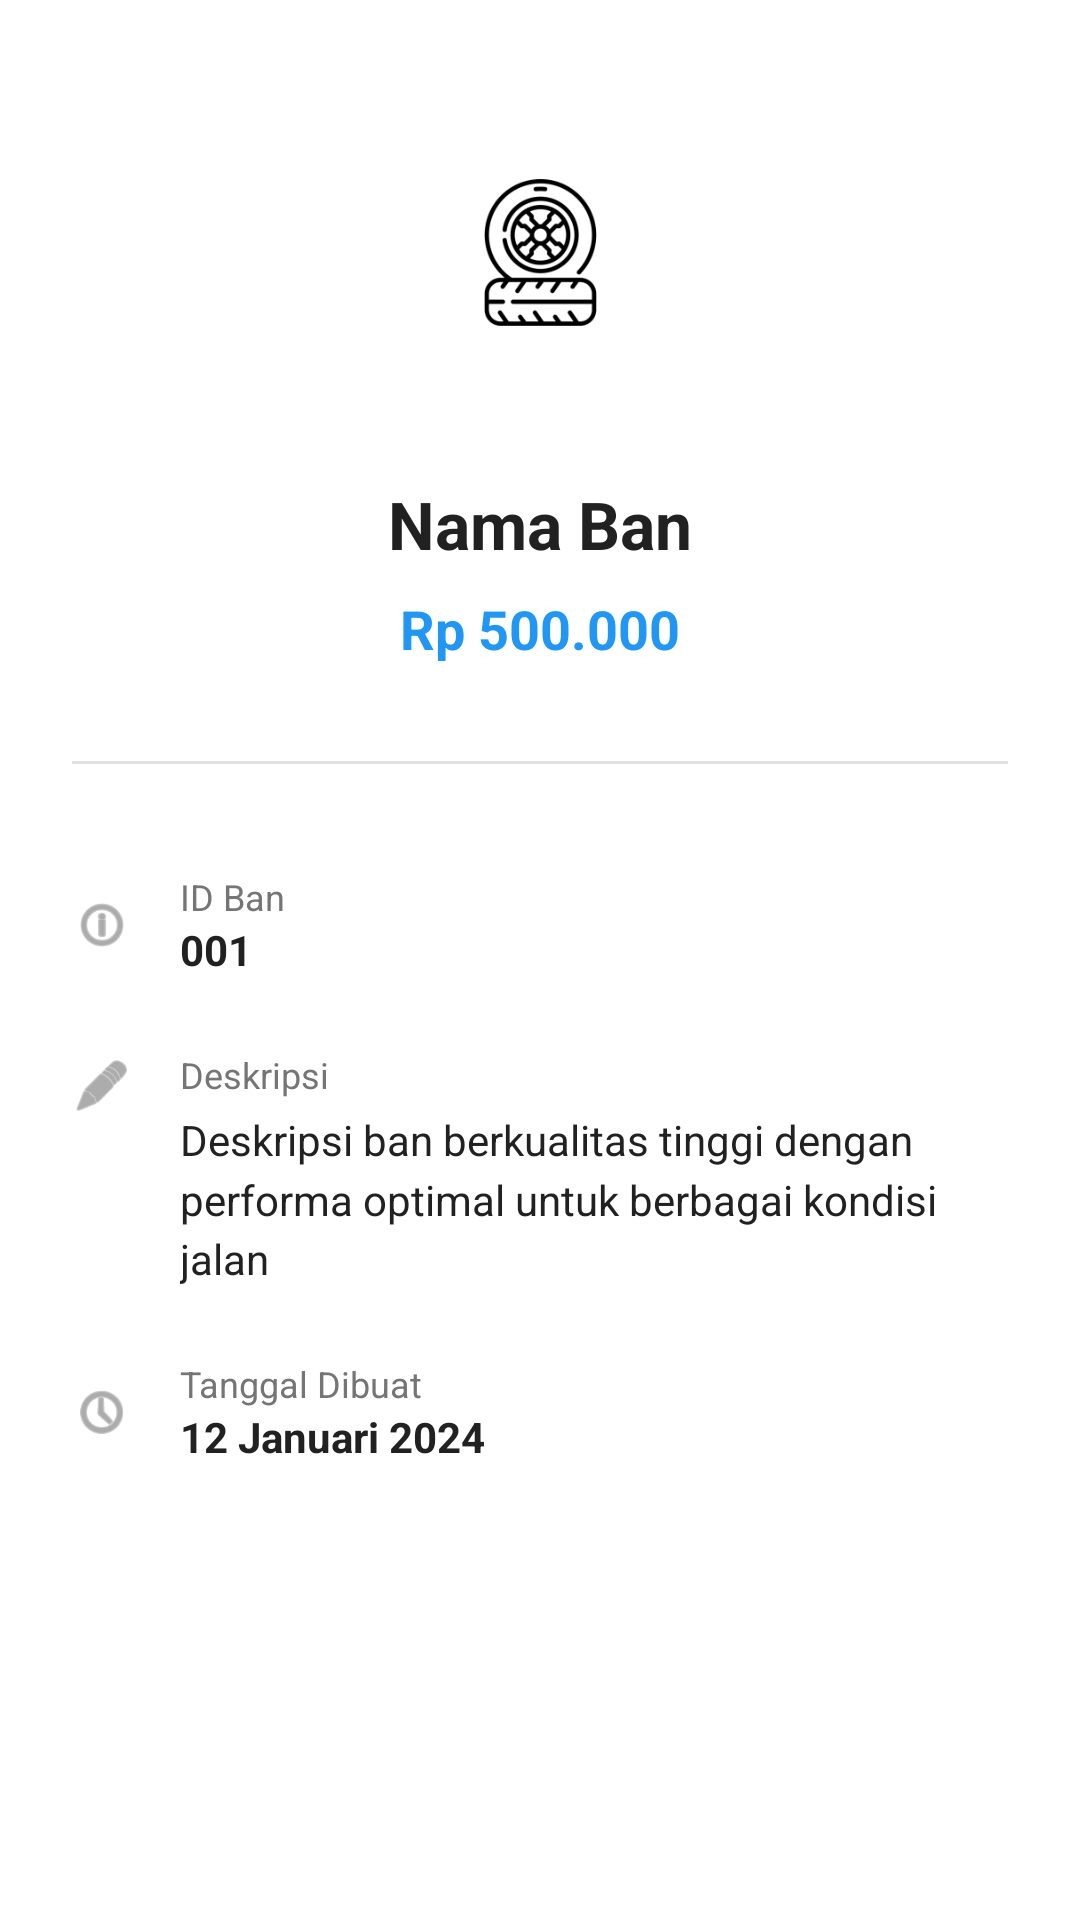

Where icons sit on this 1080px×1920px app screen, as (x1, y1, x2, y2):
edit: (77, 1060, 127, 1111)
info details: (81, 904, 123, 946)
recent history: (80, 1391, 123, 1434)
tire: (484, 179, 597, 326)
